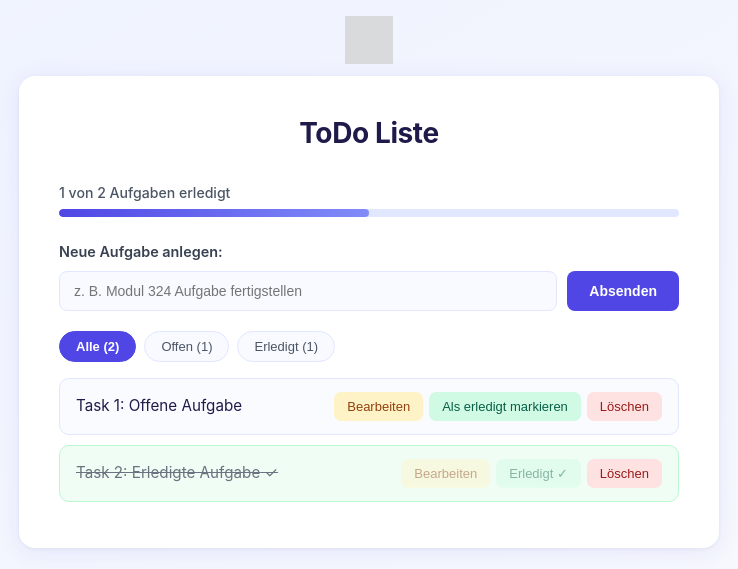
Test: App › US-20: filtert nur erledigte Aufgaben wenn Erledigt-Filter aktiv
The image size is (738, 569).
Expected: the text "Task 1: Offene Aufgabe" is shown, [76,396,242,415]
Click the button "Erledigt (1)". click: (286, 346)
box: [238,331,335,362]
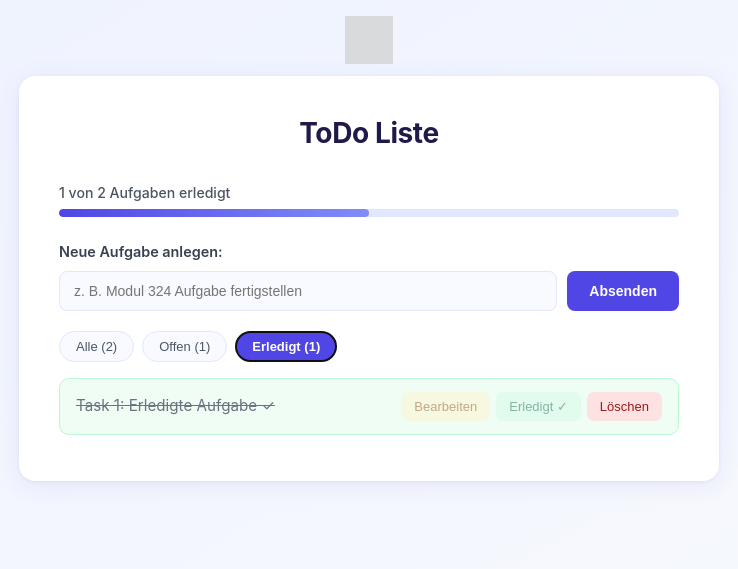
Expected: the text "Task 1: Erledigte Aufgabe ✓" is shown, [76,396,275,415]
Result: the text "Offene Aufgabe" is gone
